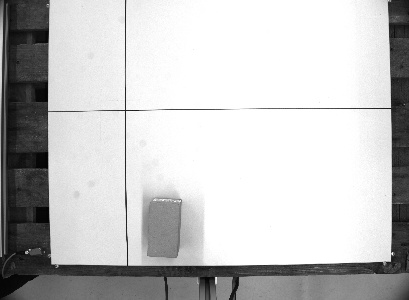b2: (145, 195, 182, 259)
